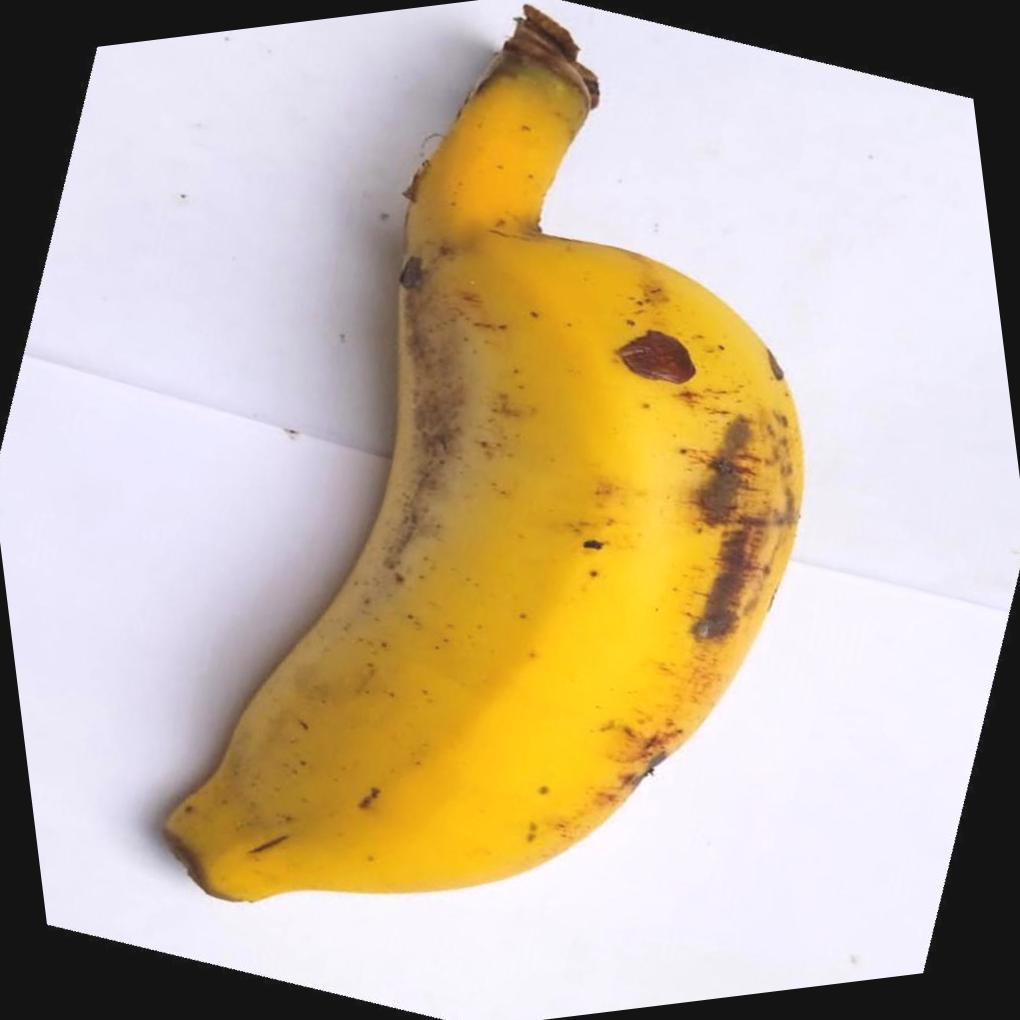Banana Ripe: (48, 4, 874, 1015)
